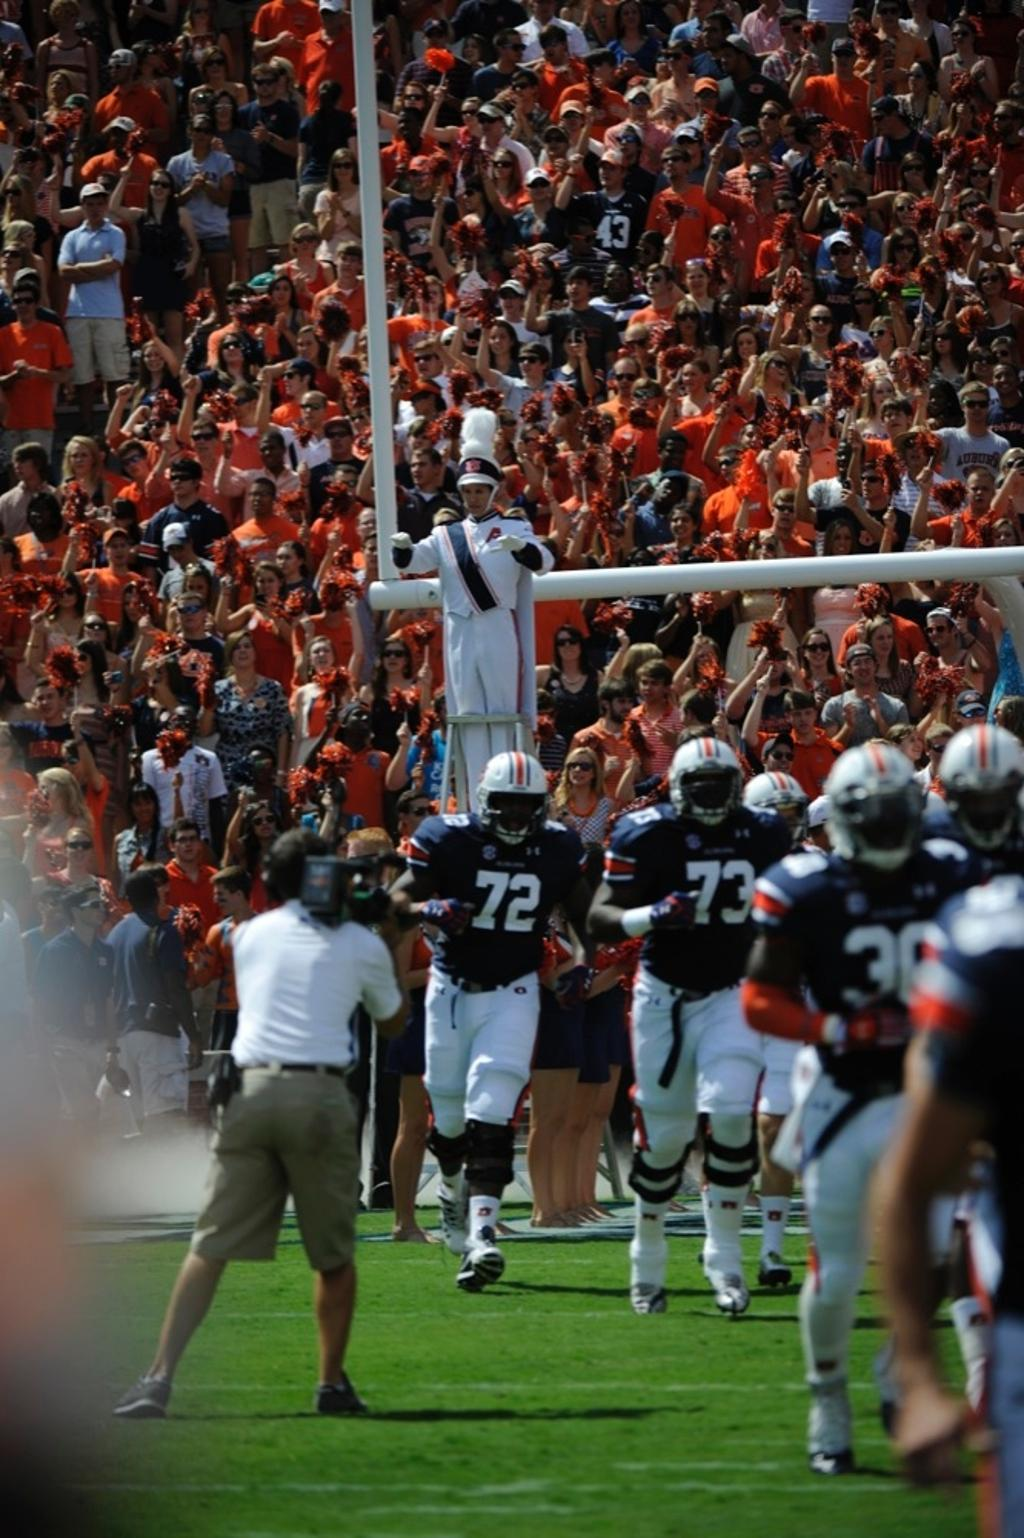face: (954, 772, 1019, 833), (849, 788, 907, 851), (683, 759, 733, 818), (493, 777, 539, 832), (464, 479, 492, 514), (656, 478, 684, 508), (81, 893, 107, 925), (39, 780, 62, 817), (768, 744, 792, 777), (931, 737, 956, 769), (961, 702, 985, 734), (231, 636, 255, 668), (177, 601, 202, 631), (663, 440, 687, 471), (141, 876, 164, 907), (332, 472, 355, 503), (791, 703, 815, 733), (570, 756, 594, 786), (614, 366, 638, 395), (67, 836, 92, 866), (45, 895, 68, 924), (36, 690, 61, 720), (928, 617, 951, 648), (213, 885, 235, 916), (176, 831, 199, 861), (409, 799, 432, 830), (191, 428, 214, 459), (852, 653, 874, 684), (671, 509, 693, 540), (899, 731, 923, 760), (639, 674, 663, 703), (558, 633, 581, 663), (69, 447, 91, 476), (808, 635, 830, 666), (776, 498, 798, 529), (406, 427, 432, 452), (873, 625, 894, 657), (760, 652, 784, 680), (833, 527, 854, 559), (414, 351, 438, 378), (610, 690, 633, 719), (966, 393, 989, 422), (412, 456, 434, 485), (149, 417, 171, 446), (907, 438, 929, 467), (862, 471, 883, 500), (170, 470, 192, 499), (301, 398, 322, 427), (85, 191, 106, 220), (311, 645, 334, 672), (331, 837, 351, 869), (149, 668, 168, 700), (831, 241, 852, 270), (365, 542, 386, 570), (971, 479, 992, 508), (720, 454, 741, 483), (488, 327, 509, 356), (259, 439, 280, 469), (283, 367, 304, 396), (253, 812, 276, 837), (13, 294, 36, 319), (359, 515, 382, 542), (222, 338, 244, 365), (495, 412, 518, 439), (349, 710, 371, 736), (569, 461, 592, 487), (21, 156, 44, 183), (696, 645, 718, 672), (228, 393, 250, 420), (531, 264, 553, 291), (682, 366, 703, 394), (62, 748, 82, 777), (297, 335, 318, 363), (523, 432, 543, 462), (170, 716, 194, 741), (635, 388, 658, 414), (740, 136, 762, 162), (543, 37, 564, 63), (994, 370, 1015, 398), (811, 310, 832, 337), (994, 106, 1015, 134), (56, 582, 77, 609), (108, 537, 128, 564), (359, 330, 377, 361), (994, 525, 1014, 553), (721, 296, 741, 324), (31, 504, 50, 532), (995, 701, 1012, 733), (134, 797, 155, 823), (528, 178, 550, 203), (768, 355, 788, 382), (750, 167, 770, 193), (676, 135, 697, 161), (696, 86, 717, 112), (271, 281, 291, 307), (255, 72, 275, 98), (575, 226, 595, 253), (600, 160, 619, 187), (151, 173, 170, 200), (885, 410, 908, 433), (521, 350, 539, 378), (14, 456, 36, 479), (638, 239, 659, 263), (743, 428, 764, 454), (837, 446, 857, 471), (855, 293, 875, 318), (384, 646, 405, 671), (339, 251, 360, 276), (494, 155, 514, 180), (972, 161, 991, 187), (839, 198, 858, 224), (616, 132, 635, 159), (758, 106, 777, 132), (214, 98, 233, 124), (193, 92, 213, 119), (722, 45, 740, 72), (406, 87, 424, 114), (194, 120, 212, 147), (1008, 453, 1024, 483), (626, 336, 647, 360), (711, 230, 732, 254), (85, 619, 105, 643), (251, 755, 272, 779), (794, 278, 812, 306), (74, 648, 92, 676), (992, 346, 1011, 371), (688, 270, 707, 295), (895, 239, 914, 264), (906, 160, 926, 185), (808, 123, 827, 148), (835, 48, 855, 73), (276, 549, 296, 574), (145, 347, 165, 373), (422, 285, 441, 310), (464, 184, 483, 209), (334, 158, 353, 183), (512, 79, 531, 104), (49, 75, 68, 100), (566, 334, 584, 360), (824, 167, 842, 193), (703, 22, 721, 48), (788, 21, 807, 47), (329, 427, 348, 454), (501, 287, 519, 313), (547, 130, 566, 156), (567, 277, 587, 299), (778, 201, 796, 228), (258, 573, 275, 600), (251, 486, 269, 513), (142, 44, 162, 67), (874, 384, 894, 408), (982, 271, 1001, 295), (563, 108, 583, 132), (321, 4, 340, 29), (738, 336, 757, 361), (826, 356, 844, 383), (607, 268, 624, 295), (909, 64, 926, 90), (782, 127, 802, 148), (124, 453, 144, 474), (194, 40, 215, 62), (111, 511, 130, 534), (953, 25, 971, 49), (664, 154, 682, 178), (412, 390, 430, 414), (505, 36, 524, 61), (426, 26, 445, 50), (111, 127, 129, 151), (785, 412, 803, 436), (98, 179, 117, 203), (647, 272, 664, 297), (188, 579, 205, 605), (170, 539, 188, 564), (602, 56, 619, 81), (534, 1, 556, 20), (2, 247, 22, 269), (9, 181, 25, 207), (631, 95, 649, 118), (880, 6, 898, 29), (296, 230, 313, 254), (464, 104, 481, 128), (681, 311, 697, 336), (124, 595, 140, 620), (412, 167, 430, 189), (623, 6, 641, 27), (193, 2, 211, 24), (207, 55, 224, 78), (57, 9, 74, 32), (873, 109, 889, 133), (962, 200, 981, 221), (354, 408, 369, 433), (898, 200, 915, 222), (482, 112, 499, 134), (347, 393, 364, 416), (464, 39, 480, 62), (667, 48, 682, 72), (227, 295, 244, 315), (320, 85, 337, 105), (977, 354, 993, 376), (849, 16, 865, 38), (111, 59, 127, 81), (890, 353, 904, 378), (935, 329, 949, 354), (959, 235, 976, 255), (873, 324, 887, 347), (930, 264, 945, 285), (459, 250, 476, 269), (930, 386, 944, 407), (1012, 236, 1024, 260), (1, 735, 12, 760), (910, 1, 926, 13)
